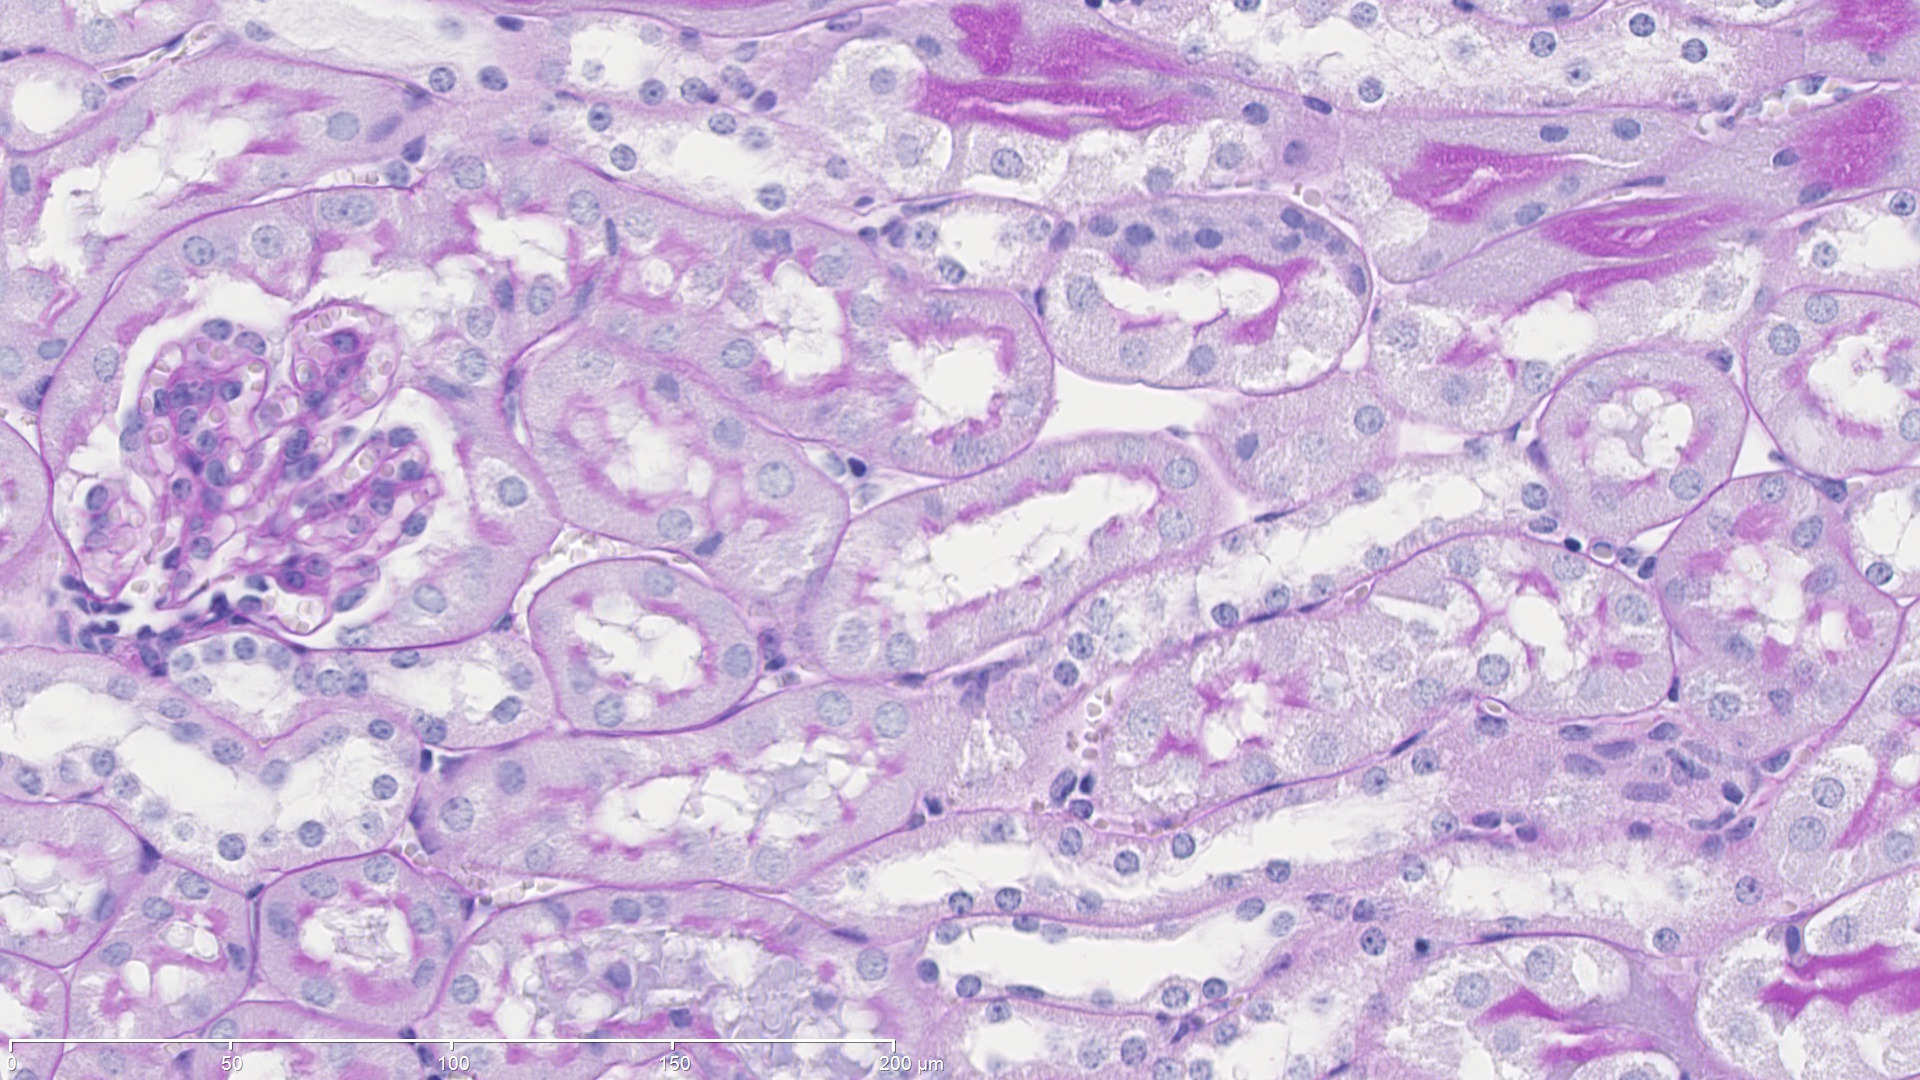Glomeruli: (51, 291, 477, 673)
